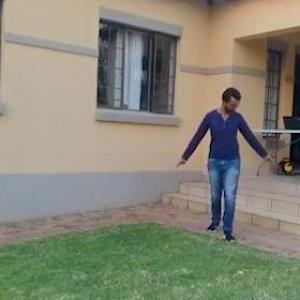land: (173, 84, 273, 250)
